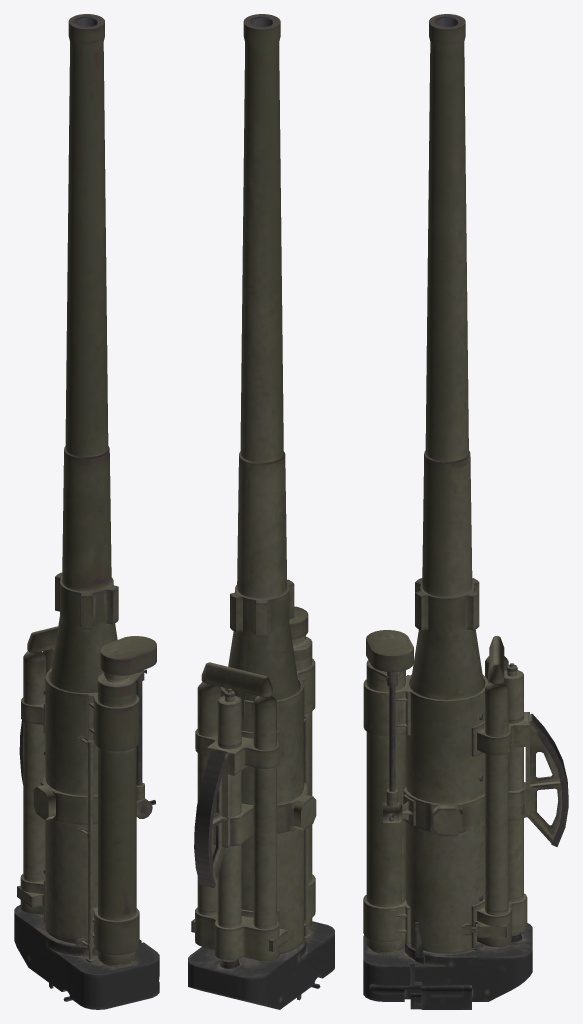
The model's file is Gun_02.glb.
The picture shows the model from 3 angles, left to right: view 1: azimuth 30°, elevation 25°; view 2: azimuth 150°, elevation 25°; view 3: azimuth 270°, elevation 25°; orthographic projection.
Parts seen in each view (by area): view 1: set_0_group_0; view 2: set_0_group_0; view 3: set_0_group_0.
Part boxes in pixels (<box>): set_0_group_0: <box>14,14,159,1009</box>; set_0_group_0: <box>188,14,334,1009</box>; set_0_group_0: <box>363,14,568,1009</box>.
Size of the model in its own units: 0.7224 by 7.31 by 1.39.
1 material, 1 textured.
